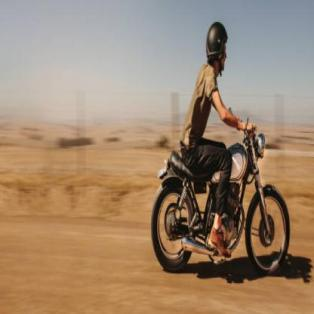Motocicleta: (152, 112, 291, 284)
